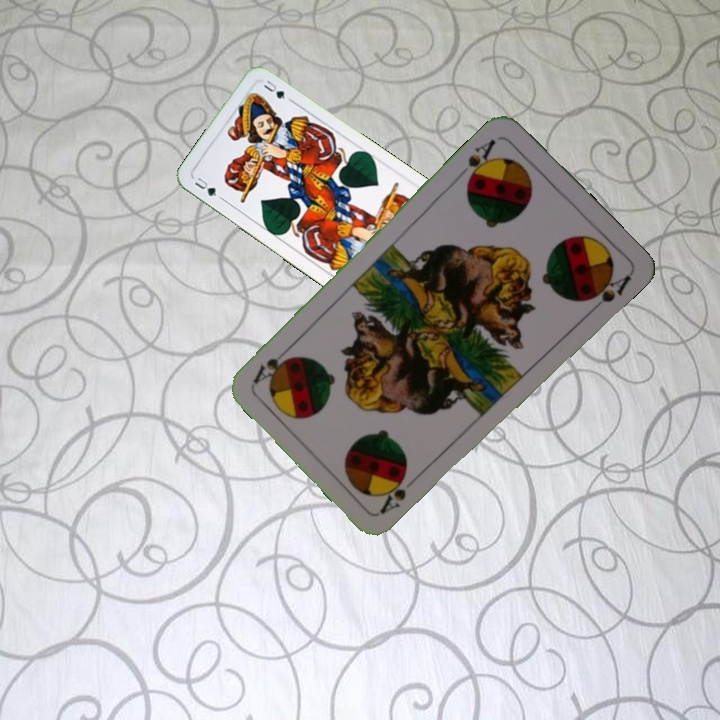GU: (190, 173, 219, 199)
SA: (454, 135, 499, 186), (375, 467, 411, 516)
